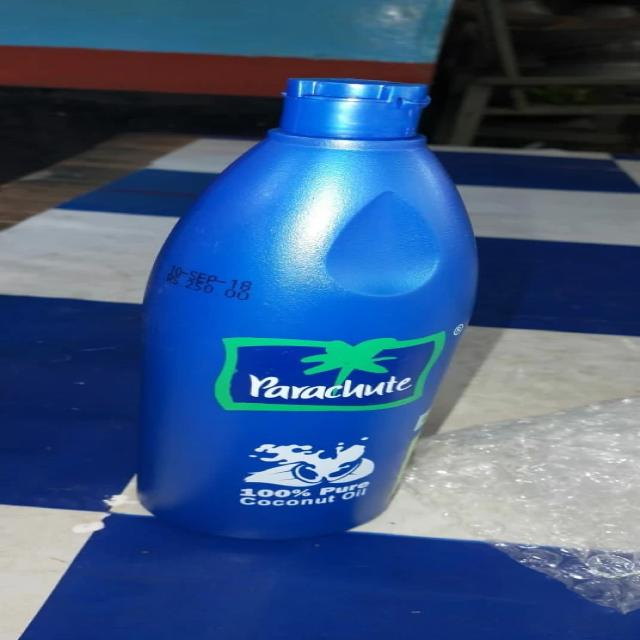parachute_oil: (150, 71, 488, 547)
